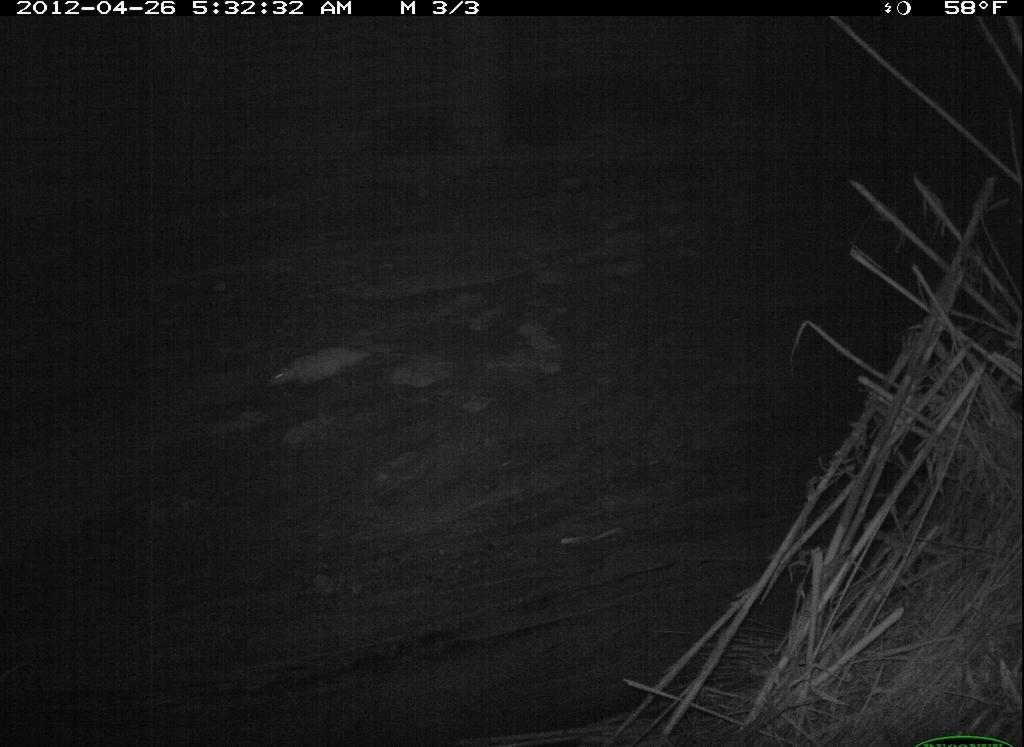opossum: (251, 338, 409, 400)
